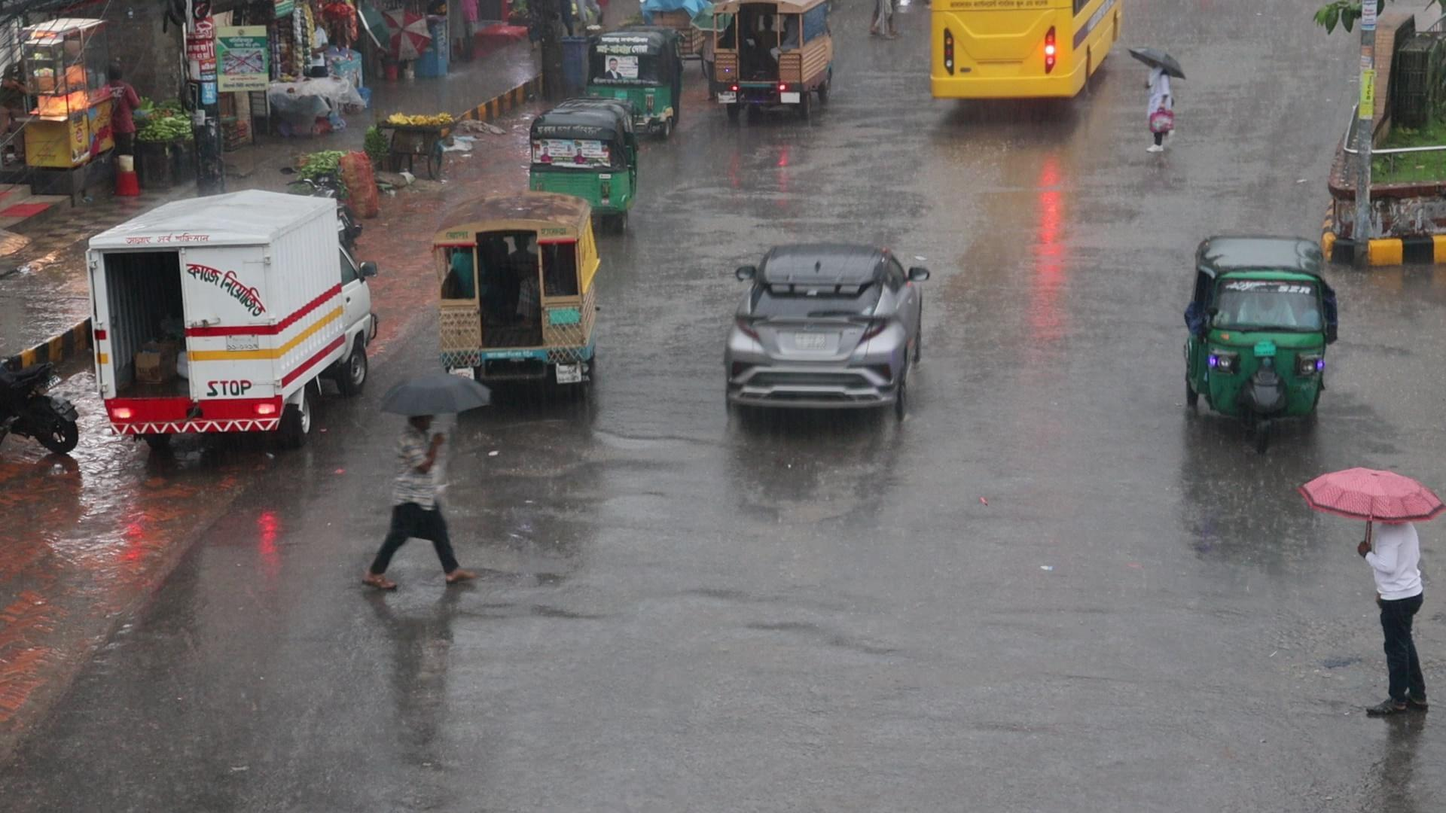Car: (723, 240, 927, 423)
Truck: (431, 189, 601, 390), (712, 0, 836, 119), (527, 96, 636, 193)
